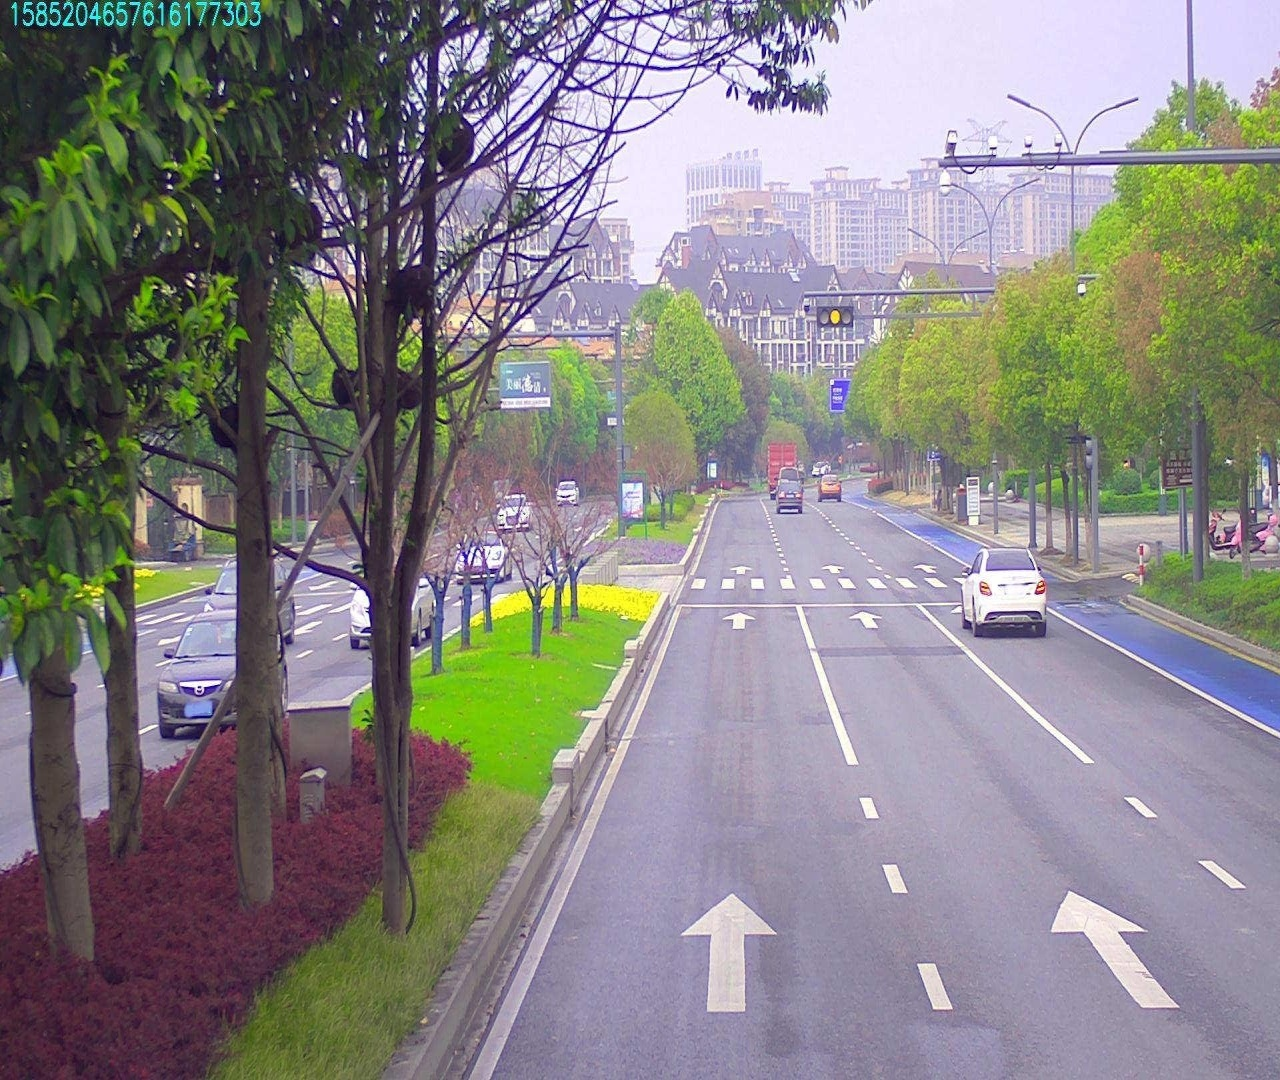yellow: (818, 305, 853, 328)
